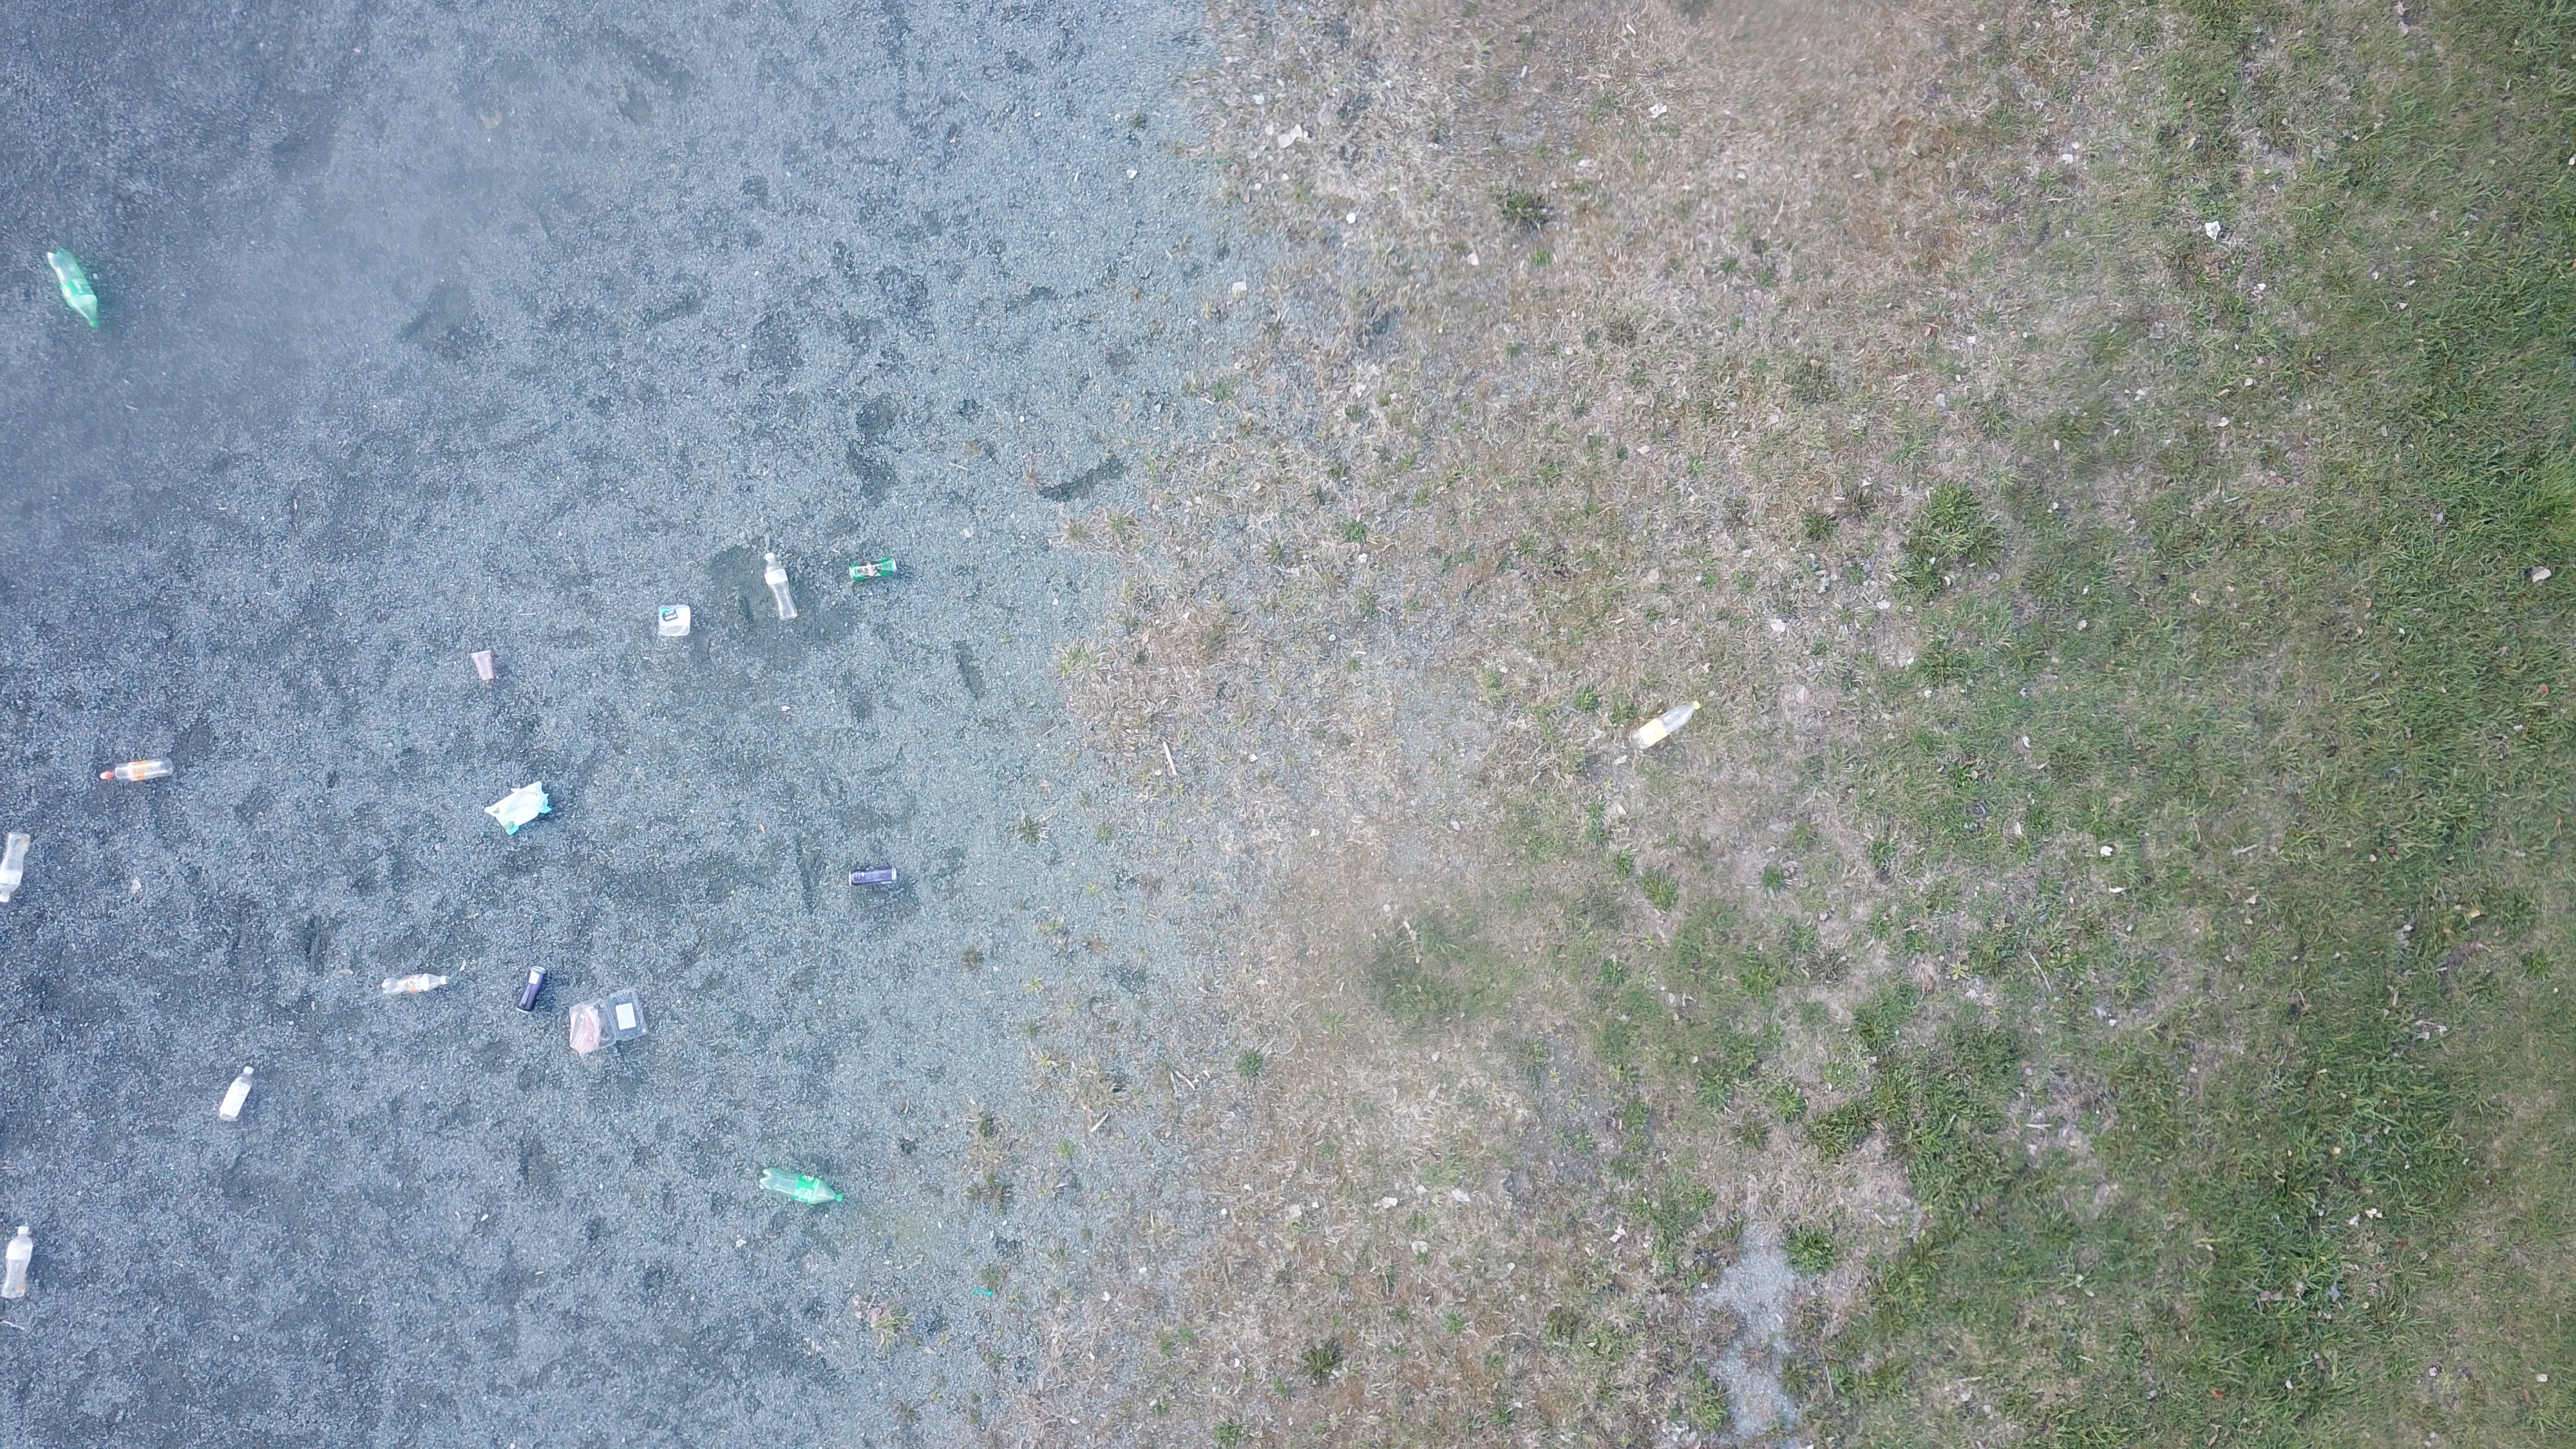Can: (520, 966, 548, 1014), (847, 557, 899, 582), (846, 867, 901, 885)
Plastic: (568, 987, 651, 1058), (485, 778, 554, 835), (658, 607, 692, 639), (471, 648, 497, 685)
PlasticBottle: (46, 251, 104, 334), (1629, 699, 1704, 754), (757, 1168, 849, 1210), (0, 1226, 37, 1300), (766, 554, 803, 625), (97, 755, 177, 786), (2, 833, 34, 908), (221, 1065, 258, 1122), (379, 973, 453, 996)
